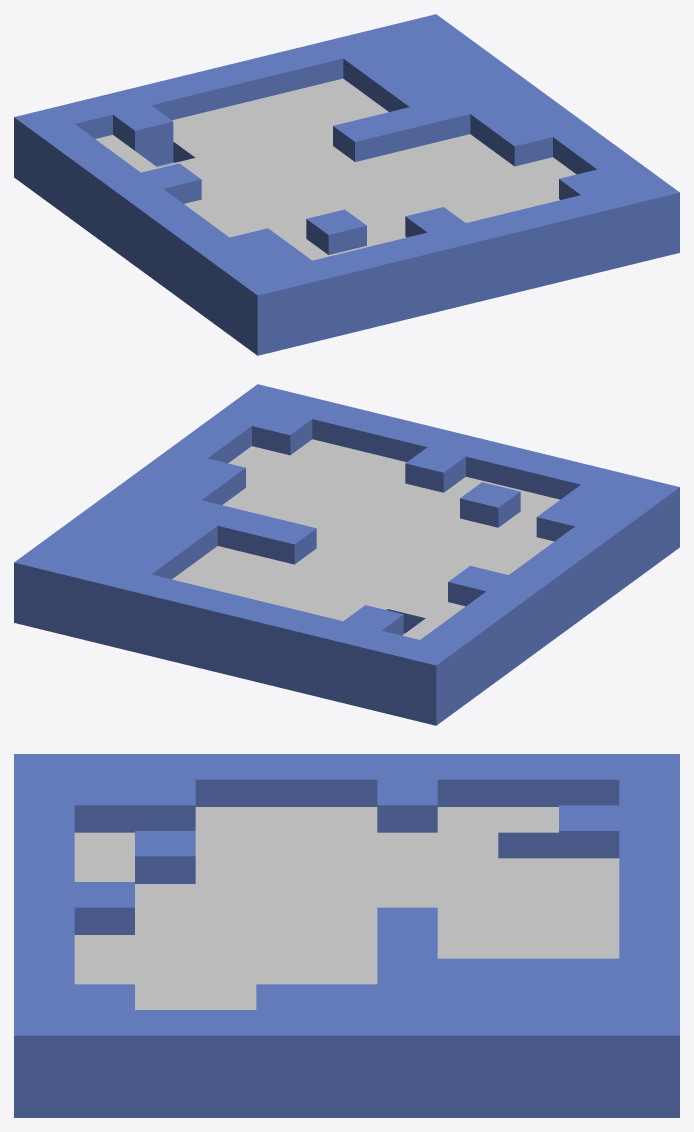
Rendered from 025_platform.fbx.
The picture shows the model from 3 angles, top to bottom: view 1: azimuth 30°, elevation 25°; view 2: azimuth 150°, elevation 25°; view 3: azimuth 270°, elevation 25°; orthographic projection. The views are drawn at different scales.
Parts seen in each view (by area): view 1: Cube; view 2: Cube; view 3: Cube.
Boxes of the visible parts, x1=… form: Cube: x1=14, y1=14, x2=679, y2=355; Cube: x1=14, y1=384, x2=679, y2=725; Cube: x1=14, y1=754, x2=679, y2=1117.
Size of the model in its own units: 1100 by 150 by 1100.
